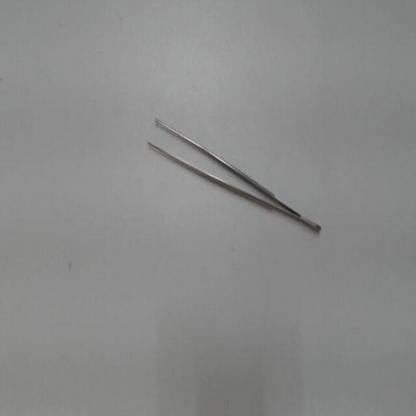Gillies Toothed Dissector: (133, 106, 328, 247)
